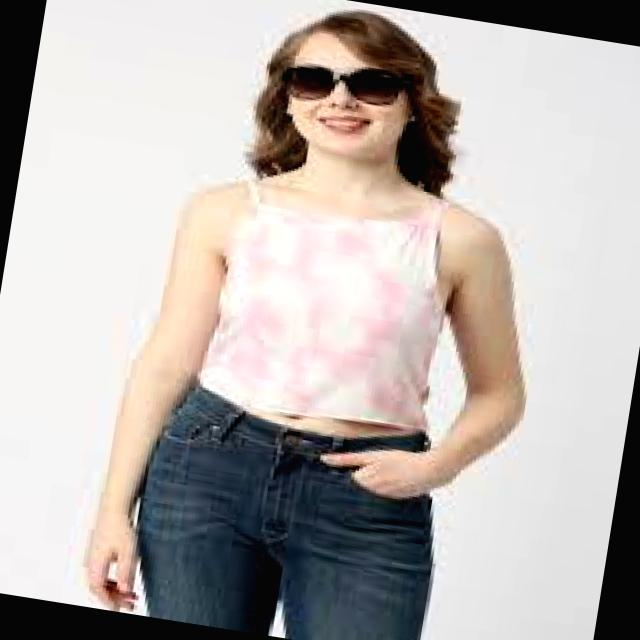face: (287, 80, 412, 159)
lower-wear: (137, 381, 434, 639)
top-wear: (197, 179, 448, 430)
